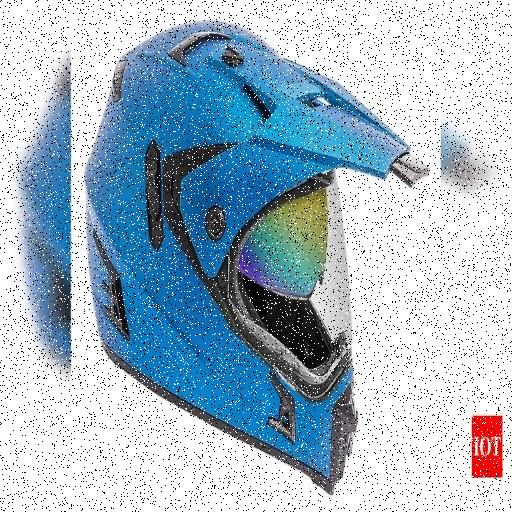Helmet: (81, 26, 397, 496)
